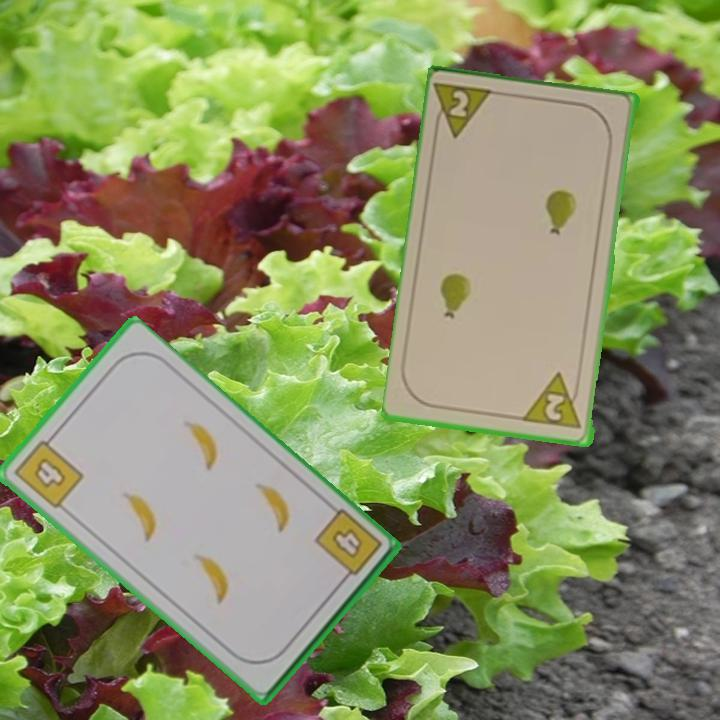2p: (431, 79, 499, 142), (522, 370, 585, 432)
4b: (10, 430, 87, 512), (310, 505, 385, 588)
